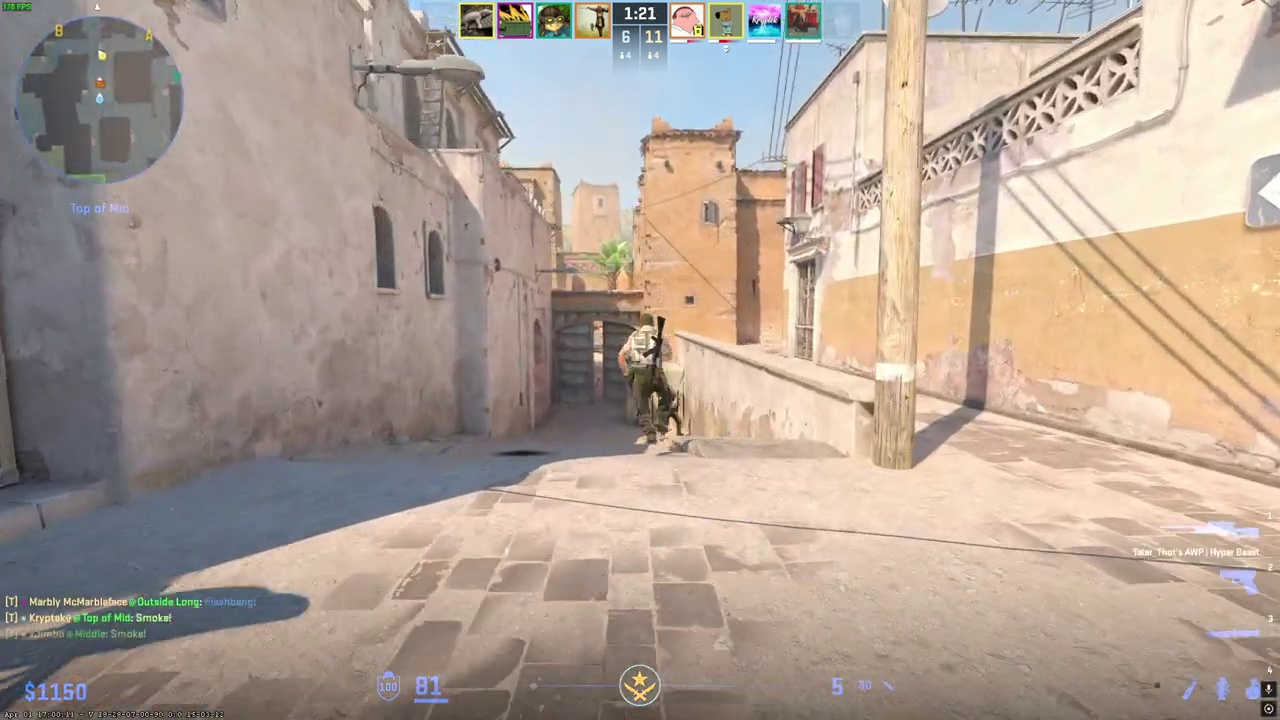Terrorist: (622, 313, 674, 444)
